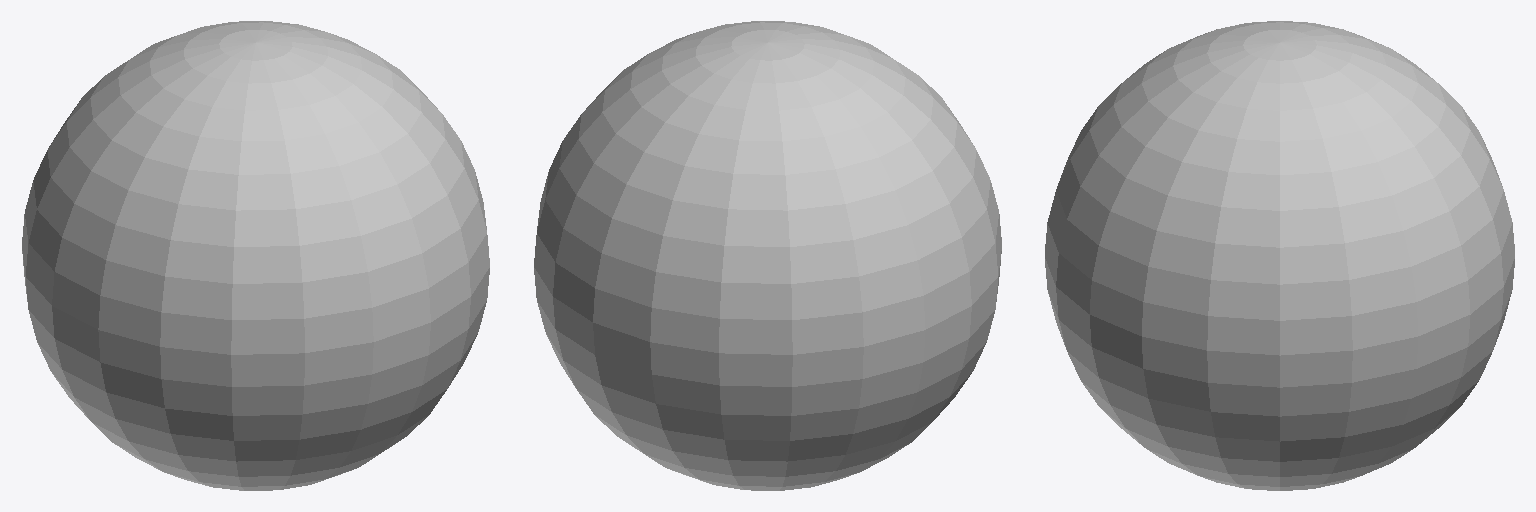
File: glass-sphere.obj
3 views of the same model, side by side, from view 1: azimuth 30°, elevation 25°; view 2: azimuth 150°, elevation 25°; view 3: azimuth 270°, elevation 25° (orthographic).
Parts seen in each view (by area): view 1: pSphere1; view 2: pSphere1; view 3: pSphere1.
Part boxes in pixels (bbox=[...]): pSphere1: bbox=[22, 21, 489, 490]; pSphere1: bbox=[534, 21, 1001, 490]; pSphere1: bbox=[1045, 21, 1514, 490].
Size of the model in its own units: 0.4166 by 0.4166 by 0.4166.